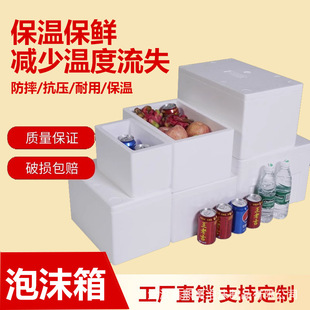泡沫箱: (69, 59, 309, 262)
